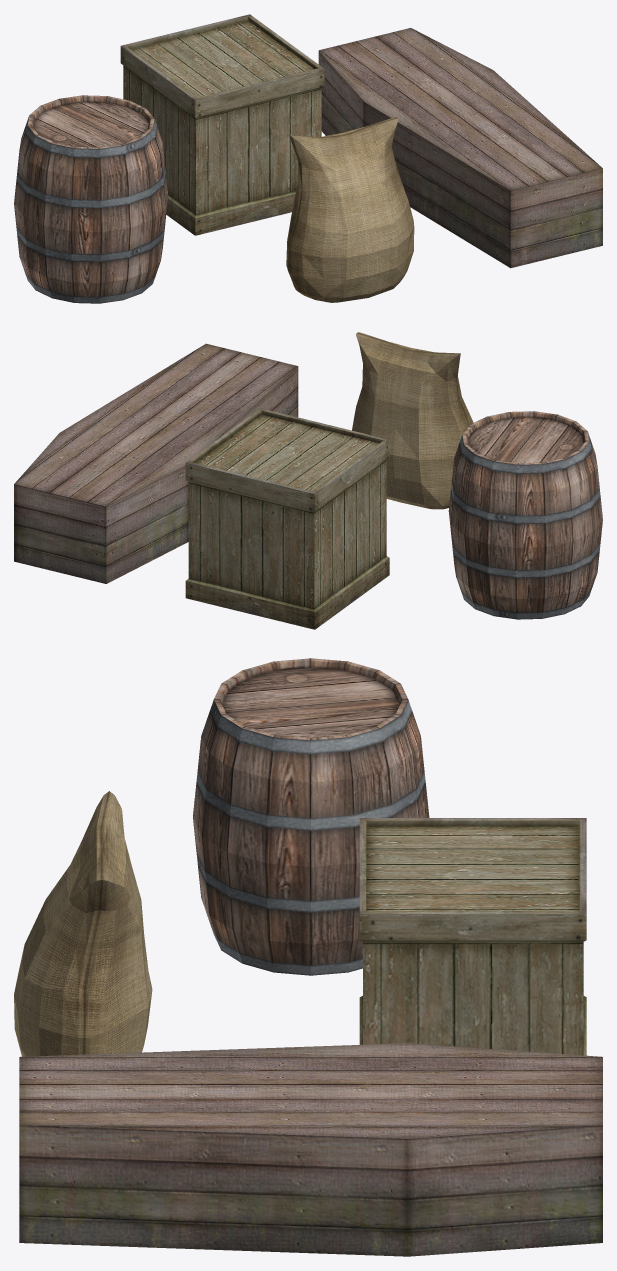
Rendered from props.obj.
3 views of the same model, one above another, from view 1: azimuth 30°, elevation 25°; view 2: azimuth 150°, elevation 25°; view 3: azimuth 270°, elevation 25° (orthographic). The views are drawn at different scales.
Bounding box in the file's own units: 107 × 32.41 × 71.5.
4 materials, 4 textured.
